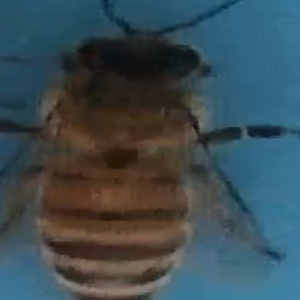bee: (12, 16, 297, 300)
